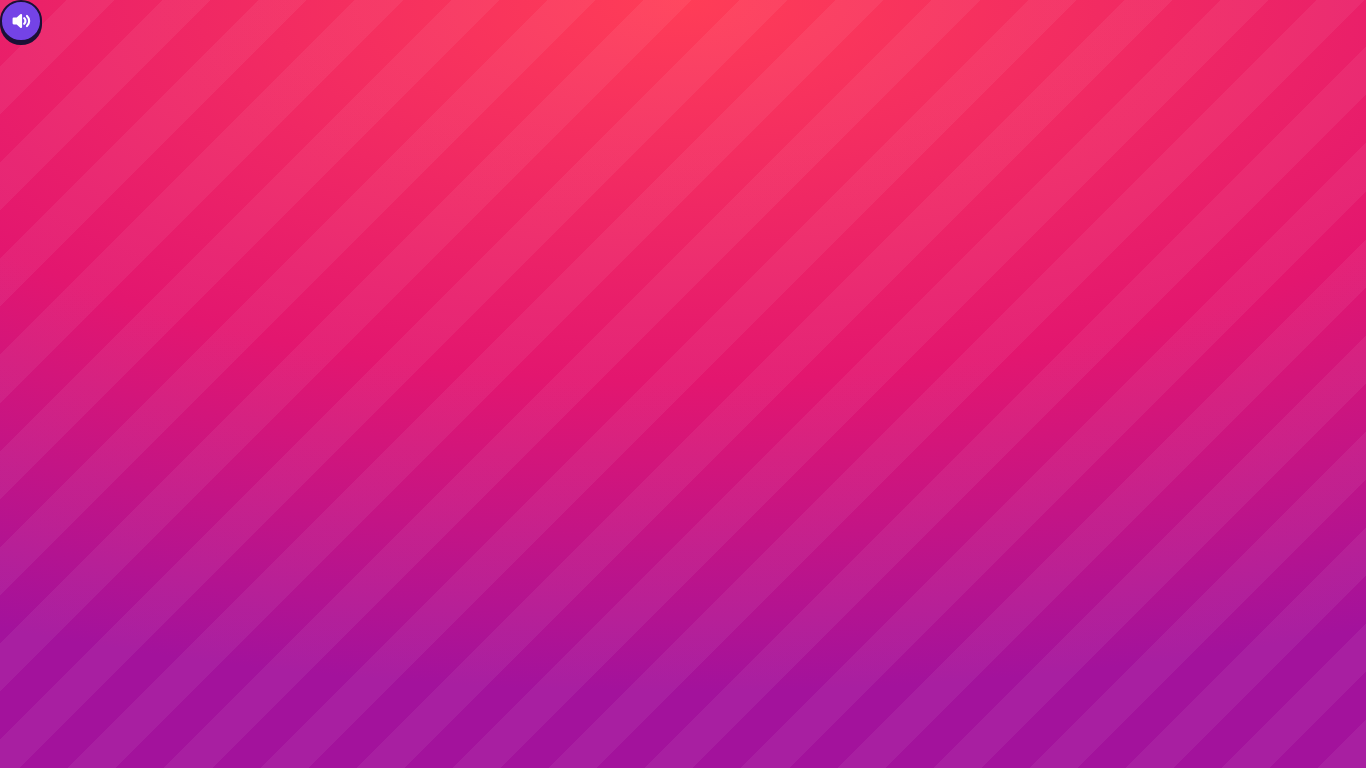
Scenario: SoundControl › opens a « Son » popover, saves the mute toggle, closes on Escape and refocuses the button
The width and height of the screenshot is (1366, 768).
Click the button named "Son" at (21, 21), box [0, 0, 42, 42]
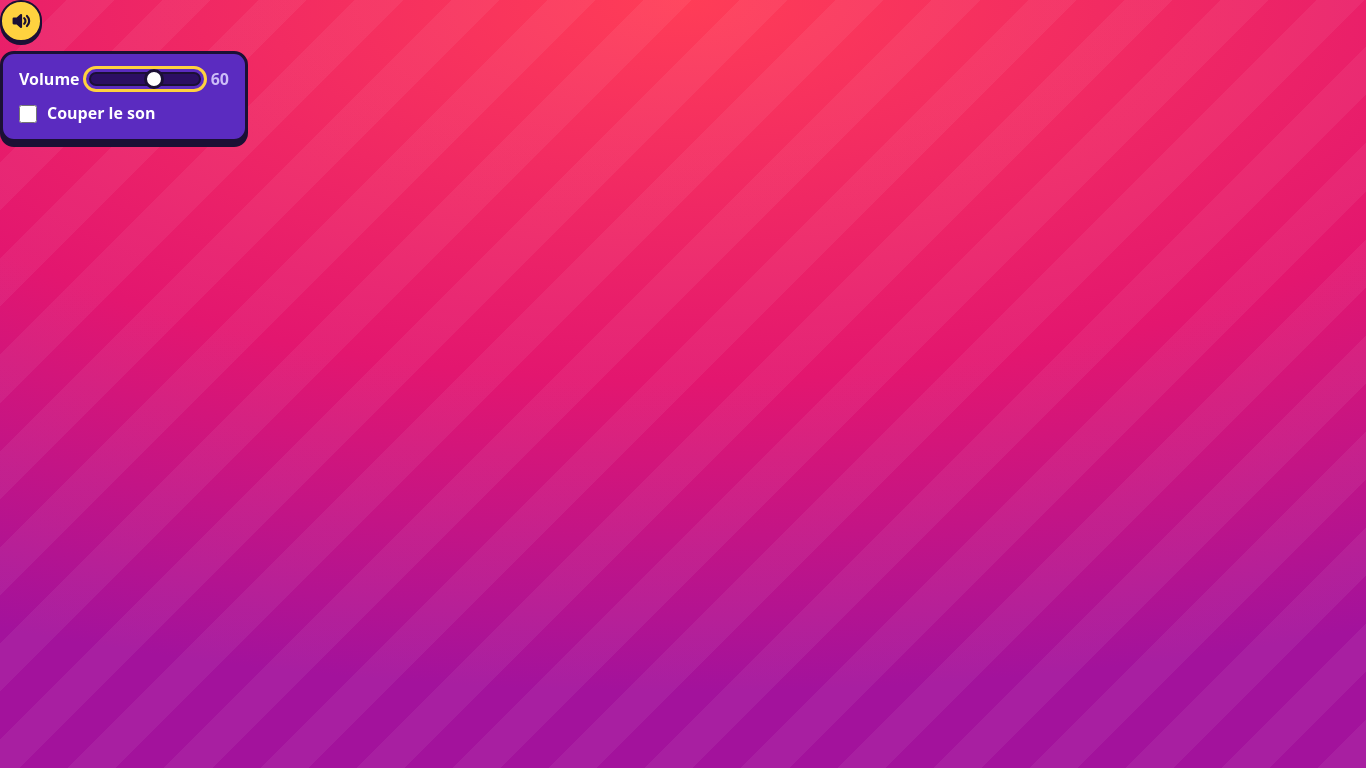
Now the button named "Son" is expanded, box [0, 0, 42, 42]
Now the dialog shows "Volume", box [19, 68, 80, 90]
Now the dialog shows "Couper le son", box [47, 102, 156, 124]
Click the checkbox labelled "Couper le son" at (28, 114), box [19, 104, 37, 123]
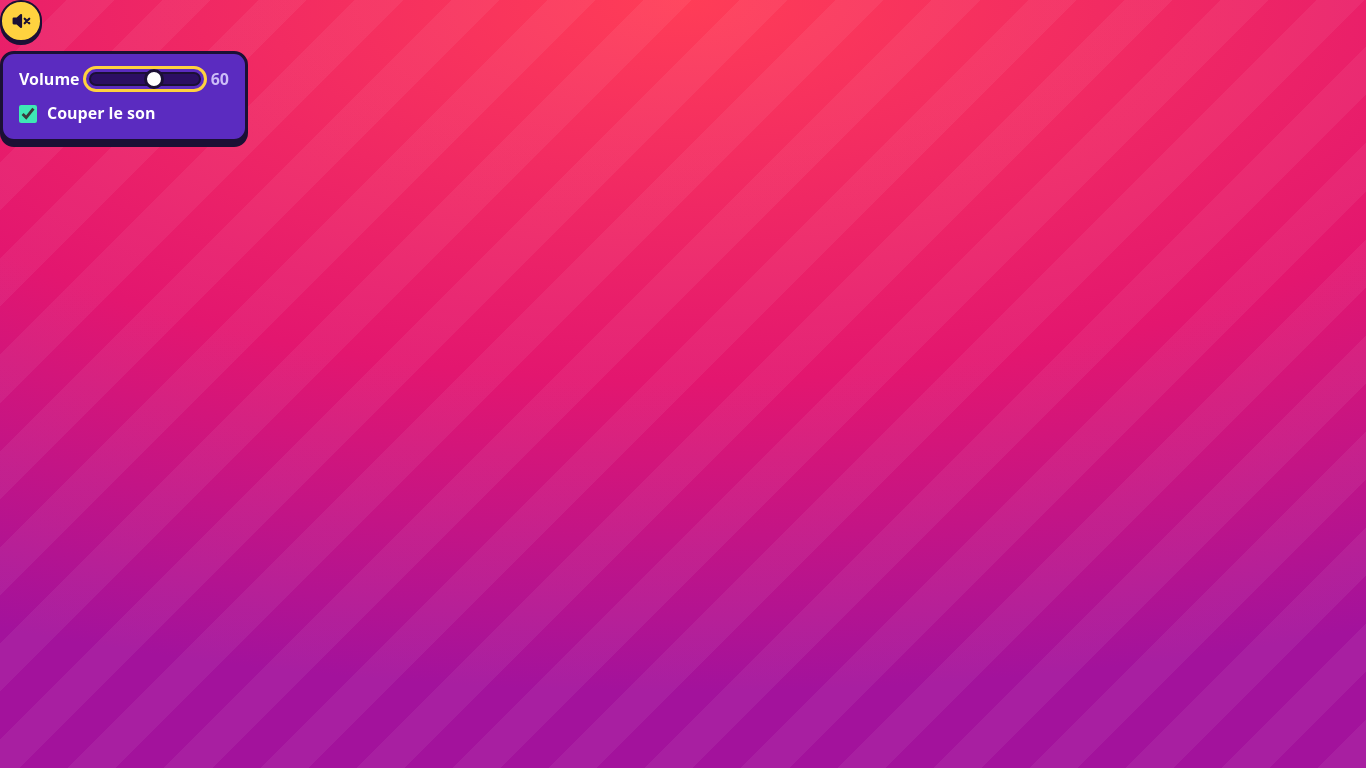
Now the button named "Son" has class "silent", box [0, 0, 42, 42]
Press Escape in the dialog, box [0, 51, 248, 142]
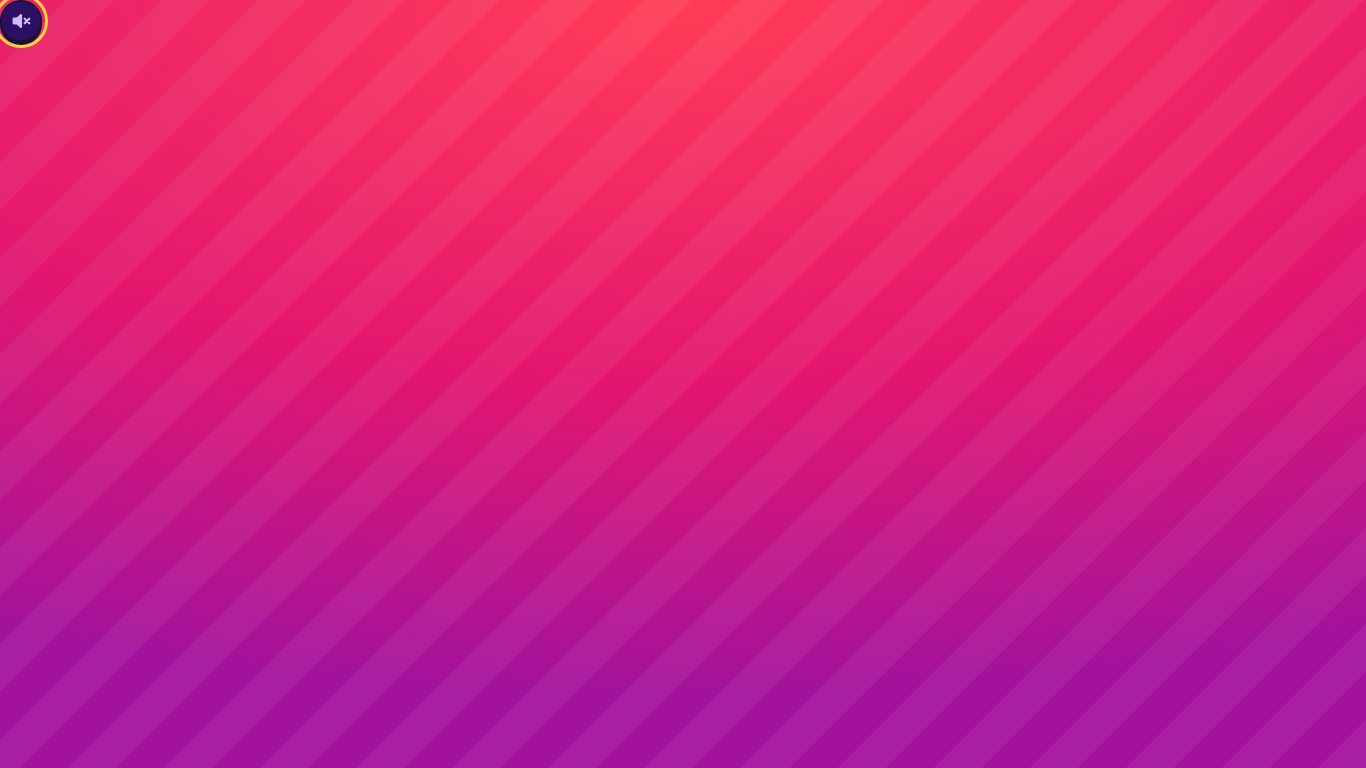
Now the dialog is gone
